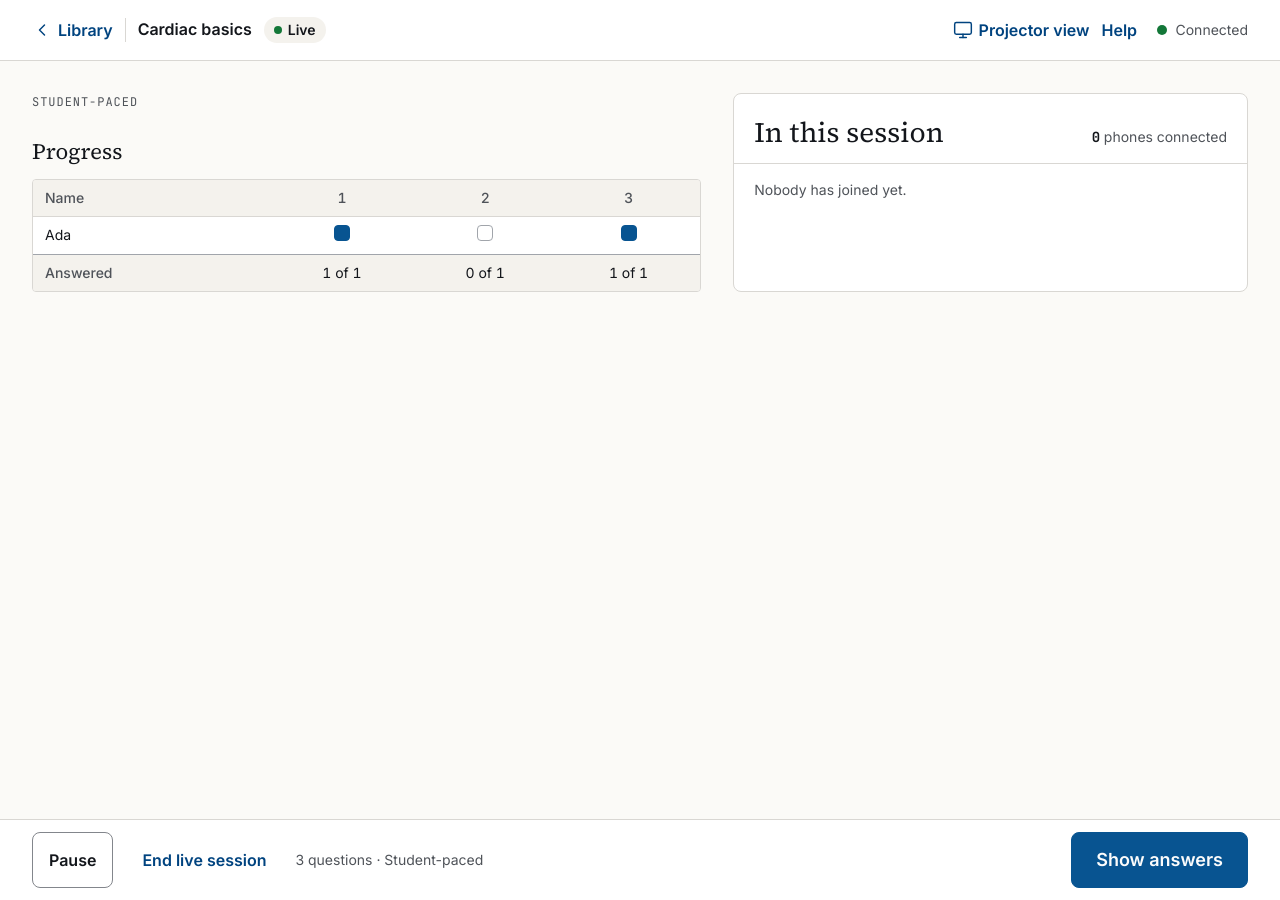
HostLobby: a student-paced room (#185) › draws the progress board, and shows every answer with one press
Expected: the cell with test id "answered-count-1" reads "1 of 1", [270,254,414,291]
Click the button "Show answers" at (1160, 860), box [1071,832,1248,888]
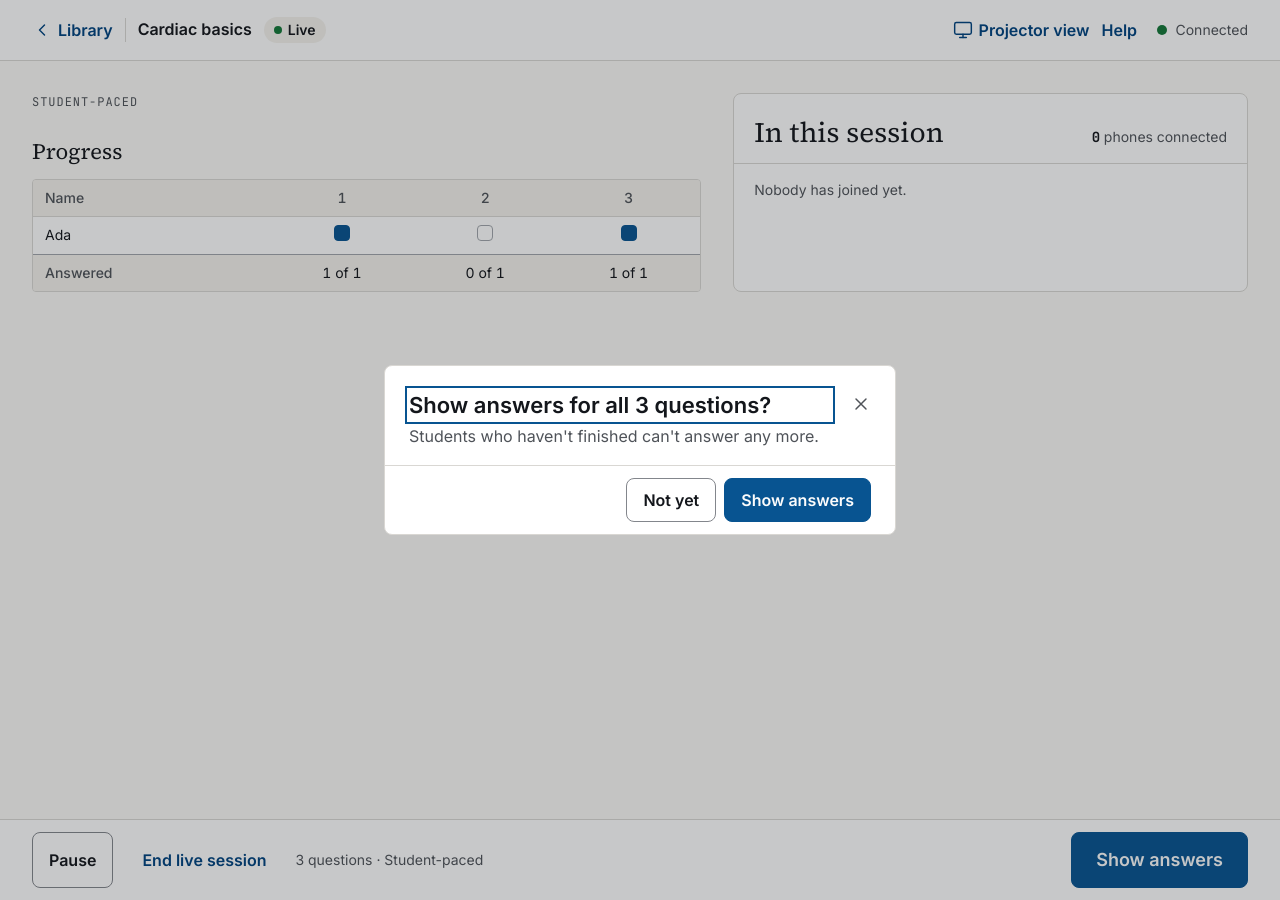
Click the button "Show answers" at (798, 500), box [724,478,871,522]
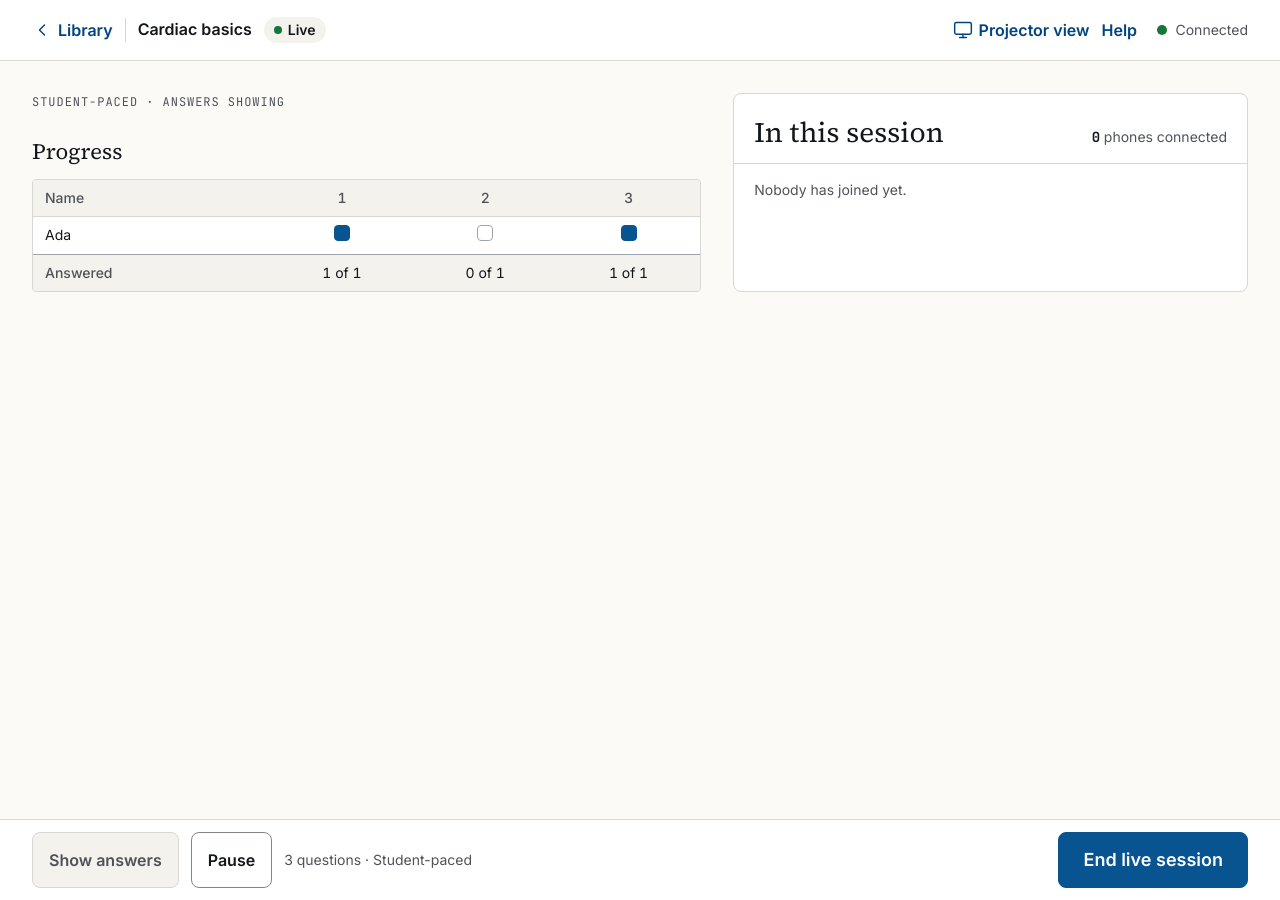
Now the text "Student-paced · Answers showing" is shown, box [32,94,285,110]
